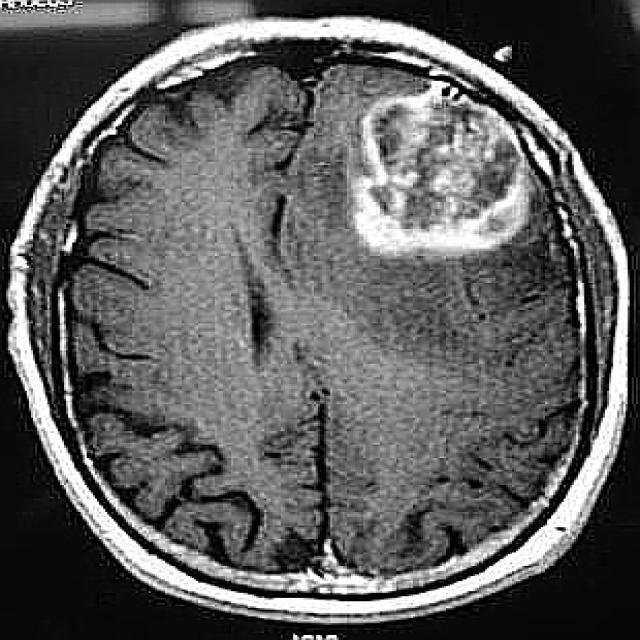Tumor-Cell: (327, 79, 516, 267)
